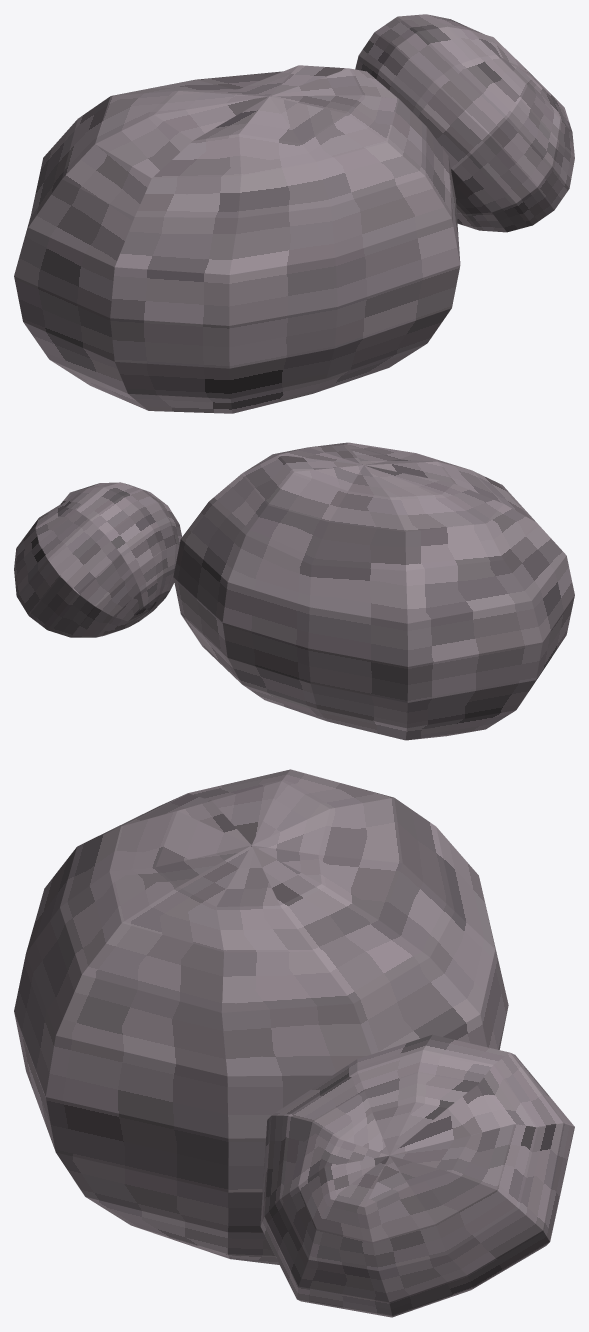
The model's file is pedres_2.FBX.
3 renders of one model, top to bottom at view 1: azimuth 30°, elevation 25°; view 2: azimuth 150°, elevation 25°; view 3: azimuth 270°, elevation 25°, orthographic. The views are drawn at different scales.
Visible parts, largest first — view 1: pedres_2; view 2: pedres_2; view 3: pedres_2.
Part boxes in pixels (left/top/right/bottom): pedres_2: left=14, top=14, right=574, bottom=413; pedres_2: left=14, top=442, right=574, bottom=740; pedres_2: left=14, top=769, right=574, bottom=1317.
Size of what is drawn, in the model's own units: 2001 by 1313 by 957.
